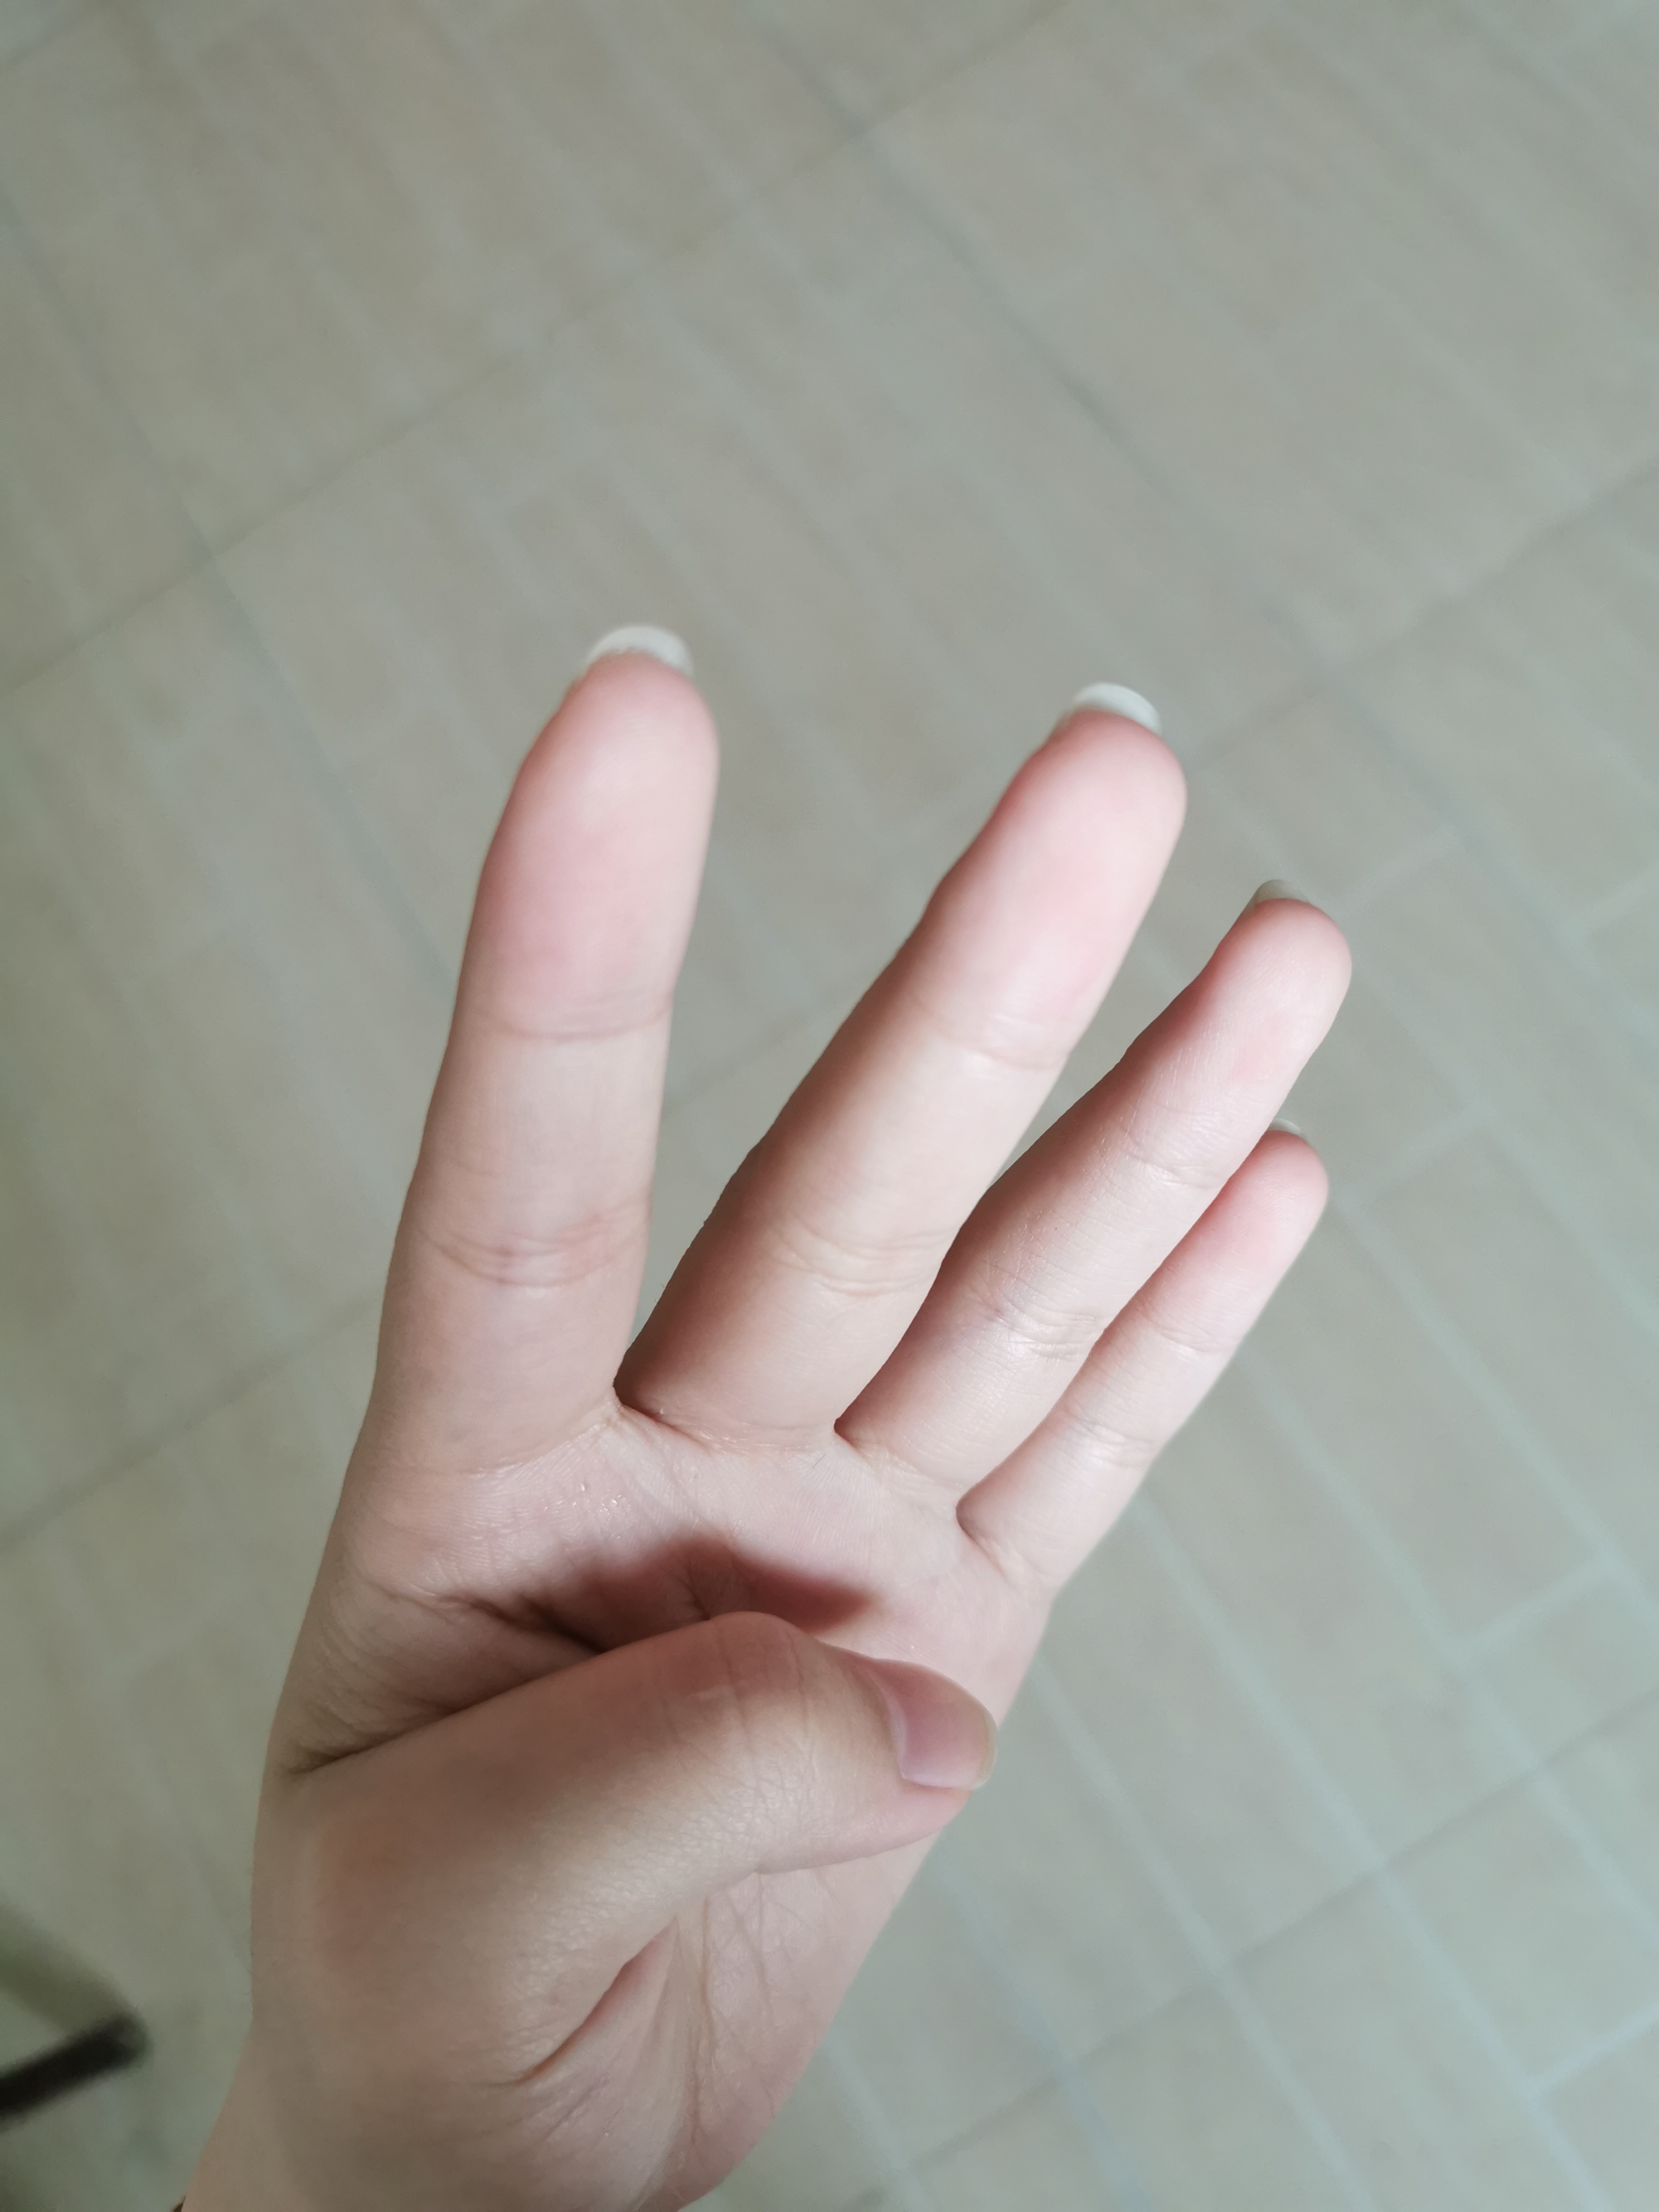right: (232, 618, 1358, 2161)
